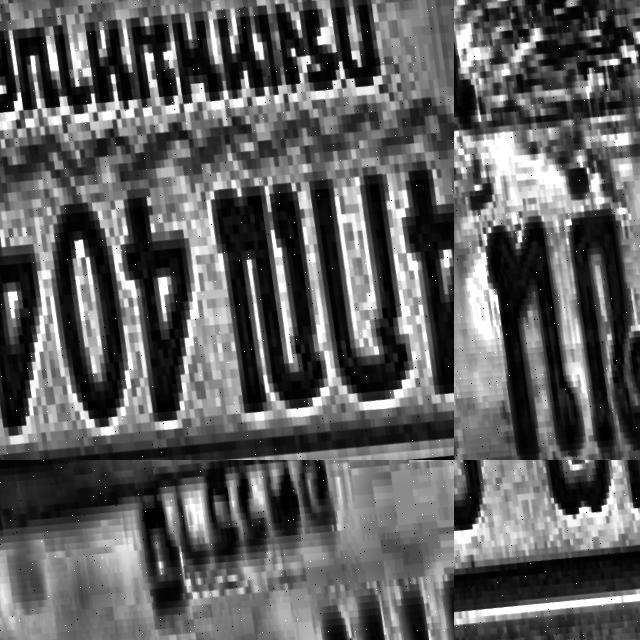license-plate: (0, 0, 454, 460), (454, 0, 640, 460), (0, 460, 454, 640), (454, 460, 640, 640)
